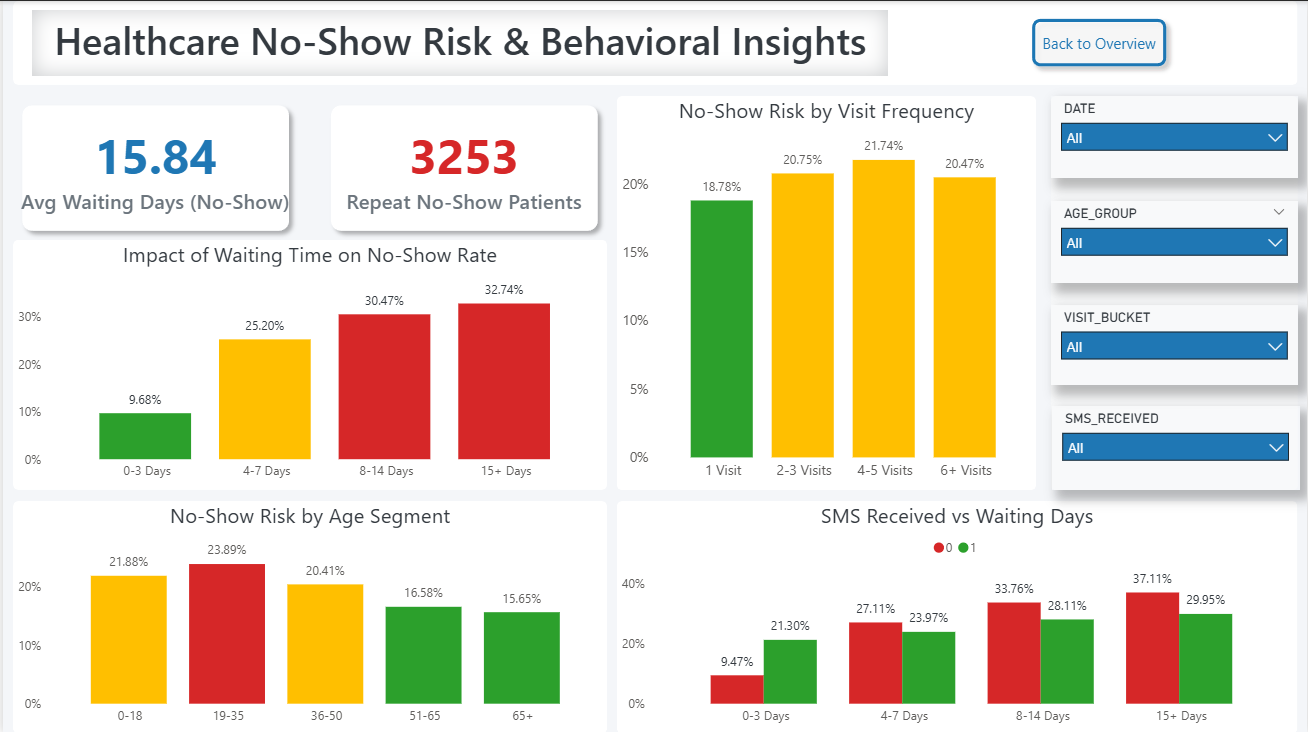

Layout of this report page (visuals, bound fields, positions):
{"tool":"powerbi","page":{"name":"deep","canvas":[1280,720],"ordinal":1},"visuals":[{"type":"shape","box":[9.6,93.3,279.9,141.3],"z":0},{"type":"shape","box":[9.6,234.6,583.2,245.6],"z":1000},{"type":"shape","box":[312.9,93.3,279.9,141.3],"z":2000},{"type":"shape","box":[9.6,491.3,583.2,229.2],"z":3000},{"type":"shape","box":[602.4,93.3,411.7,387],"z":4000},{"type":"shape","box":[602.4,491.3,668.3,229.2],"z":5000},{"type":"shape","box":[1027.8,93.3,242.9,387],"z":6000},{"type":"shape","box":[9.6,0,1261.1,82.3],"z":7000},{"type":"card","fields":{"Values":["FACT_APPOINTMENT.Avg Waiting Days (No Show)"]},"box":[9.6,93.3,279.9,141.3],"z":8000},{"type":"card","fields":{"Values":["FACT_APPOINTMENT.Repeat No Show Patients"]},"box":[312.9,93.3,279.9,141.3],"z":9000},{"type":"clusteredColumnChart","title":"No-Show Risk by Age Segment","fields":{"Y":["FACT_APPOINTMENT.no show rate"],"Category":["DIM_PATIENTS.AGE_GROUP"]},"box":[9.6,491.3,583.2,229.2],"z":10000},{"type":"clusteredColumnChart","title":"Impact of Waiting Time on No-Show Rate","fields":{"Category":["FACT_APPOINTMENT.WAITING_DAY_BUCKET"],"Y":["FACT_APPOINTMENT.no show rate"]},"box":[9.6,234.6,583.2,245.6],"z":11000},{"type":"clusteredColumnChart","title":"No-Show Risk by Visit Frequency","fields":{"Category":["PATIENT_VISIT_FREQ.VISIT_BUCKET"],"Y":["FACT_APPOINTMENT.no show rate"]},"box":[602.4,93.3,411.7,387],"z":12000},{"type":"clusteredColumnChart","title":"SMS Received vs Waiting Days","fields":{"Category":["FACT_APPOINTMENT.WAITING_DAY_BUCKET"],"Series":["FACT_APPOINTMENT.SMS_RECEIVED"],"Y":["FACT_APPOINTMENT.no show rate"]},"box":[602.4,491.3,668.3,229.2],"z":13000},{"type":"slicer","fields":{"Values":["DIM_DATE.DATE"]},"box":[1027.8,93.3,242.9,81],"z":14000},{"type":"slicer","fields":{"Values":["DIM_PATIENTS.AGE_GROUP"]},"box":[1027.8,196.2,242.9,81],"z":15000},{"type":"slicer","fields":{"Values":["PATIENT_VISIT_FREQ.VISIT_BUCKET"]},"box":[1027.8,297.8,242.9,79.6],"z":16000},{"type":"slicer","fields":{"Values":["FACT_APPOINTMENT.SMS_RECEIVED"]},"box":[1029.2,397.9,242.9,82.3],"z":17000},{"type":"textbox","box":[28.8,8.2,841.2,64.5],"z":18000},{"type":"actionButton","box":[1001.7,8.2,149.6,64.5],"z":19000}]}

Visuals, with their boxes in screenshot pixels (x1, y1, x2, y2), scaled from the page's 1280x720 canvas onto the 1308x732 screenshot:
shape: (10, 95, 296, 239)
shape: (10, 239, 606, 488)
shape: (320, 95, 606, 239)
shape: (10, 499, 606, 731)
shape: (616, 95, 1036, 488)
shape: (616, 499, 1298, 731)
shape: (1050, 95, 1298, 488)
shape: (10, 0, 1298, 84)
card - FACT_APPOINTMENT.Avg Waiting Days (No Show): (10, 95, 296, 239)
card - FACT_APPOINTMENT.Repeat No Show Patients: (320, 95, 606, 239)
"No-Show Risk by Age Segment" clusteredColumnChart: (10, 499, 606, 731)
"Impact of Waiting Time on No-Show Rate" clusteredColumnChart: (10, 239, 606, 488)
"No-Show Risk by Visit Frequency" clusteredColumnChart: (616, 95, 1036, 488)
"SMS Received vs Waiting Days" clusteredColumnChart: (616, 499, 1298, 731)
slicer - DIM_DATE.DATE: (1050, 95, 1298, 177)
slicer - DIM_PATIENTS.AGE_GROUP: (1050, 199, 1298, 282)
slicer - PATIENT_VISIT_FREQ.VISIT_BUCKET: (1050, 303, 1298, 384)
slicer - FACT_APPOINTMENT.SMS_RECEIVED: (1052, 405, 1300, 488)
textbox: (29, 8, 889, 74)
actionButton: (1024, 8, 1176, 74)
